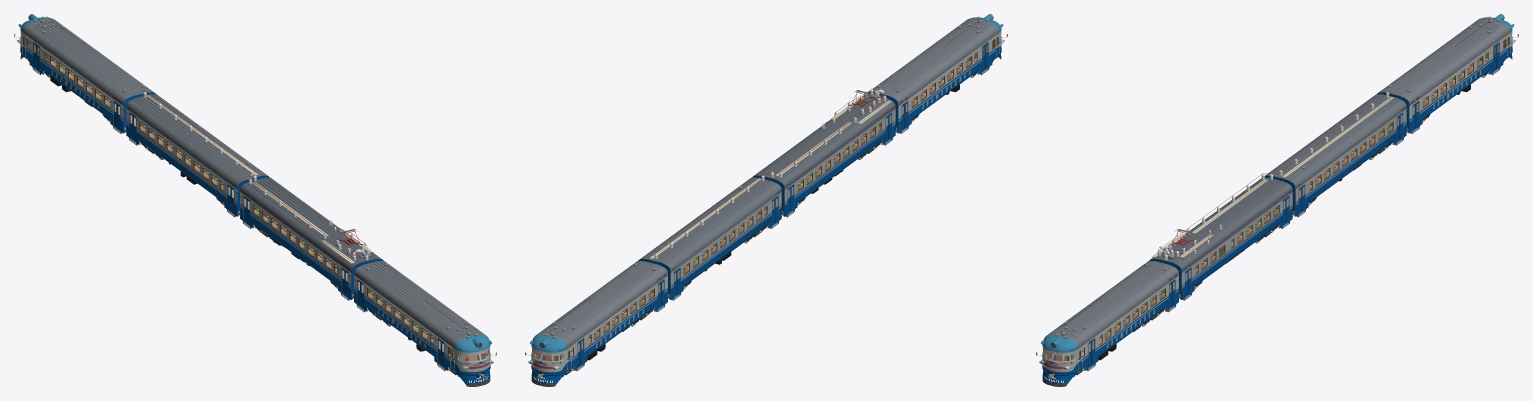
File: er-9-p-electric-train.glb
The picture shows the model from 3 angles, left to right: view 1: azimuth 30°, elevation 25°; view 2: azimuth 150°, elevation 25°; view 3: azimuth 330°, elevation 25°; orthographic projection.
Visible parts, largest first — view 1: body.001_base_colour.001_0, body.002_base_colour_0, body_base_colour.008_0, interior.001_brown_wood.001_0, interior.001_biege_varnished_wood_0, interior.001_glass.005_0, left_passanger_door_1.001_base_colour.007_0, body.001_dusty_grey_metal.002_0, body.002_white_board_0, body.002_white_metal_0; view 2: body.001_base_colour.001_0, body.002_base_colour_0, body_base_colour.008_0, interior.001_brown_wood.001_0, interior.001_glass.005_0, interior.001_biege_varnished_wood_0, left_passanger_door_1.001_base_colour.007_0, body.001_dusty_grey_metal.002_0, body.002_white_board_0, body.002_white_metal_0; view 3: body.001_base_colour.001_0, body.002_base_colour_0, body_base_colour.008_0, interior.001_brown_wood.001_0, interior.001_glass.005_0, left_passanger_door_1.001_base_colour.007_0, interior.001_biege_varnished_wood_0, body.002_white_board_0, body.001_dusty_grey_metal.002_0, body.002_white_metal_0.
Part boxes in pixels (x1,y1,x2,y2): body.001_base_colour.001_0: [17, 14, 493, 386]; body.002_base_colour_0: [126, 94, 270, 217]; body_base_colour.008_0: [240, 177, 383, 300]; interior.001_brown_wood.001_0: [24, 37, 489, 360]; interior.001_biege_varnished_wood_0: [45, 58, 433, 343]; interior.001_glass.005_0: [24, 38, 489, 360]; left_passanger_door_1.001_base_colour.007_0: [33, 42, 444, 367]; body.001_dusty_grey_metal.002_0: [14, 16, 496, 370]; body.002_white_board_0: [146, 95, 372, 263]; body.002_white_metal_0: [143, 92, 370, 260]; body.001_base_colour.001_0: [528, 14, 1004, 386]; body.002_base_colour_0: [638, 177, 781, 300]; body_base_colour.008_0: [751, 94, 895, 217]; interior.001_brown_wood.001_0: [532, 37, 997, 360]; interior.001_glass.005_0: [532, 38, 997, 360]; interior.001_biege_varnished_wood_0: [588, 58, 976, 343]; left_passanger_door_1.001_base_colour.007_0: [577, 42, 988, 367]; body.001_dusty_grey_metal.002_0: [525, 16, 1007, 370]; body.002_white_board_0: [650, 97, 891, 258]; body.002_white_metal_0: [654, 88, 886, 259]; body.001_base_colour.001_0: [1039, 14, 1515, 386]; body.002_base_colour_0: [1264, 94, 1406, 217]; body_base_colour.008_0: [1149, 177, 1292, 300]; interior.001_brown_wood.001_0: [1043, 37, 1508, 360]; interior.001_glass.005_0: [1043, 38, 1508, 360]; left_passanger_door_1.001_base_colour.007_0: [1088, 42, 1499, 367]; interior.001_biege_varnished_wood_0: [1099, 58, 1487, 343]; body.002_white_board_0: [1152, 96, 1394, 257]; body.001_dusty_grey_metal.002_0: [1036, 16, 1518, 370]; body.002_white_metal_0: [1157, 92, 1389, 260].
Bounding box in the file's own units: 3.81 × 6.17 × 83.3.
78 materials, 63 textured.
